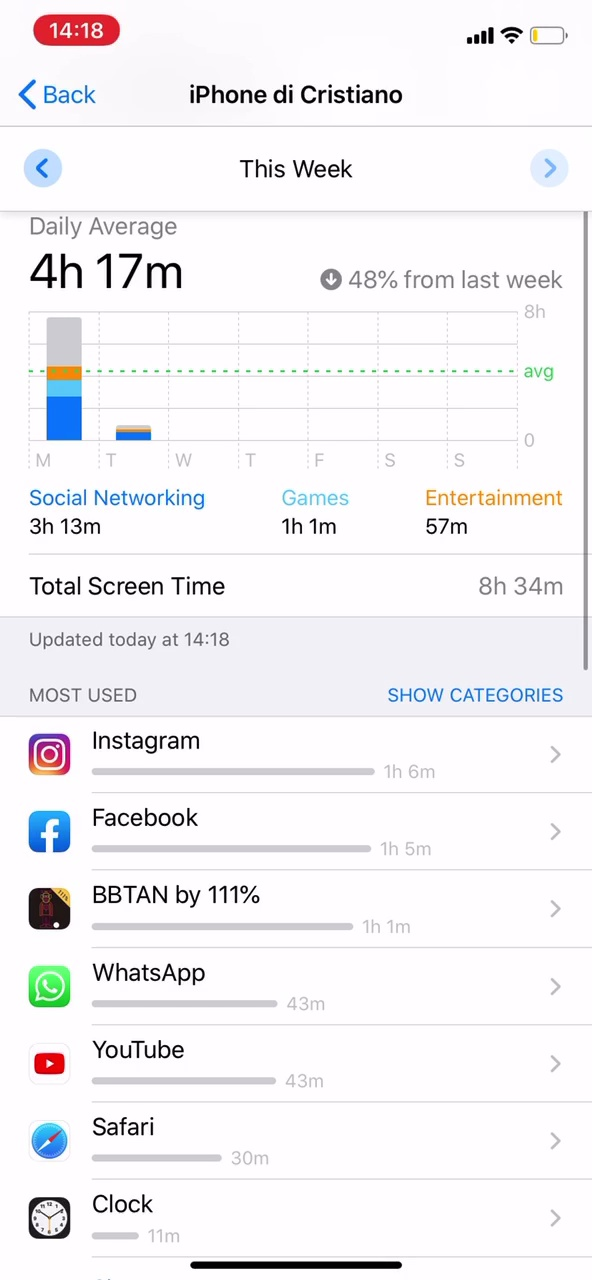use_over: (25, 480, 575, 607)
week: (235, 148, 368, 185)
